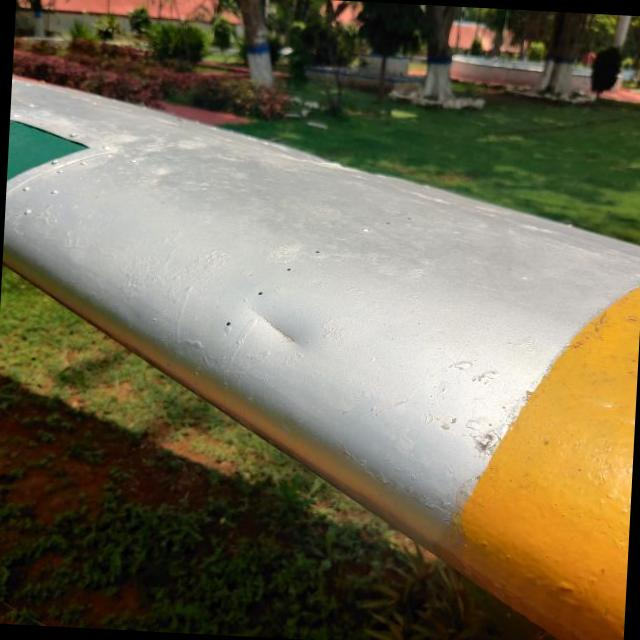Dent: (223, 263, 329, 367)
